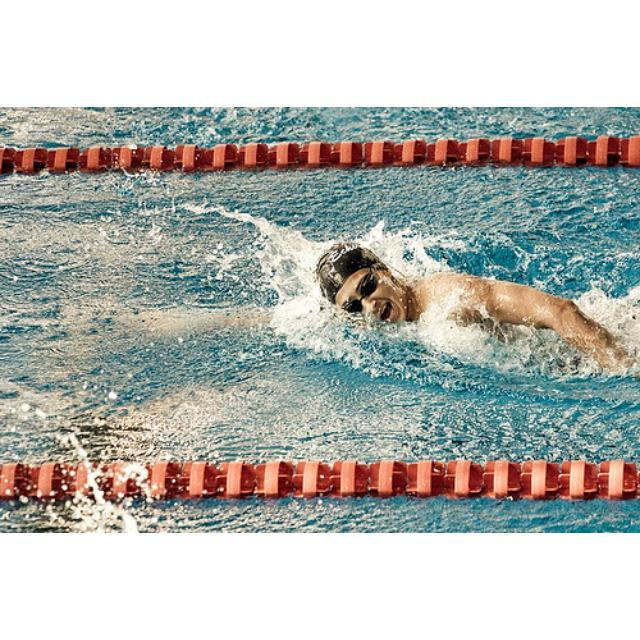human: (316, 240, 633, 387)
